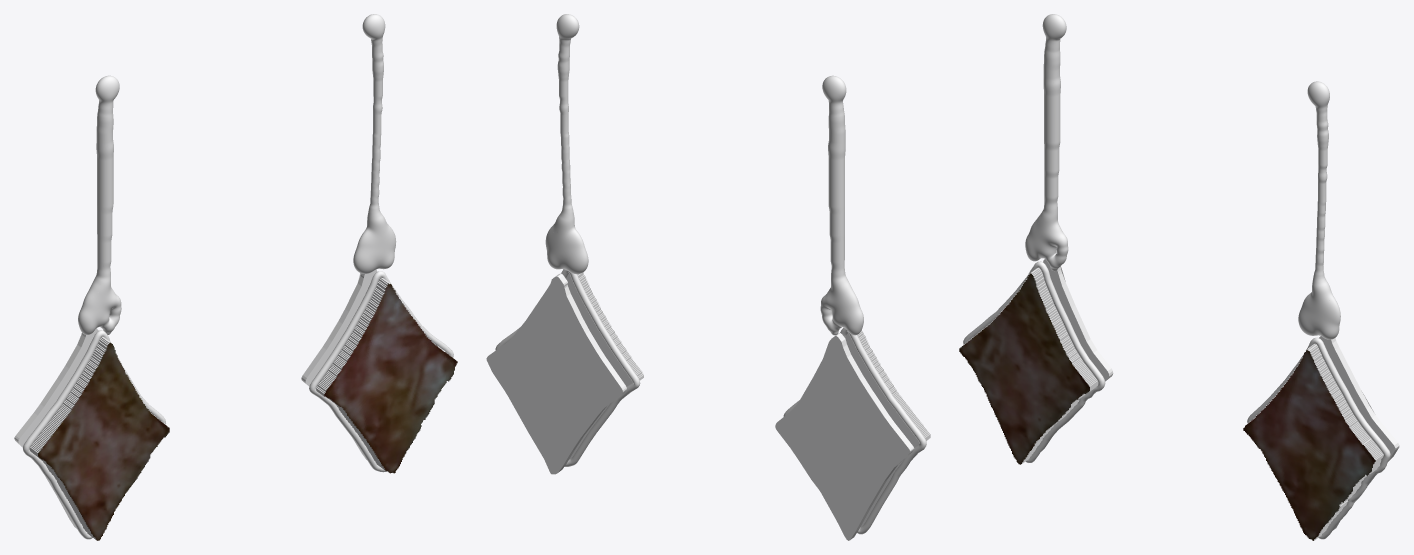
3 views of the same model, side by side, from view 1: azimuth 30°, elevation 25°; view 2: azimuth 150°, elevation 25°; view 3: azimuth 330°, elevation 25° (orthographic).
Visible parts, largest first — view 1: joya; view 2: joya; view 3: joya.
Part boxes in pixels (x1,y1,x2,y2): joya: (14, 14, 457, 540); joya: (486, 14, 930, 540); joya: (959, 14, 1399, 540).
Bounding box in the file's own units: 0.0368 × 0.0375 × 0.00325.
3 materials, 1 textured.
